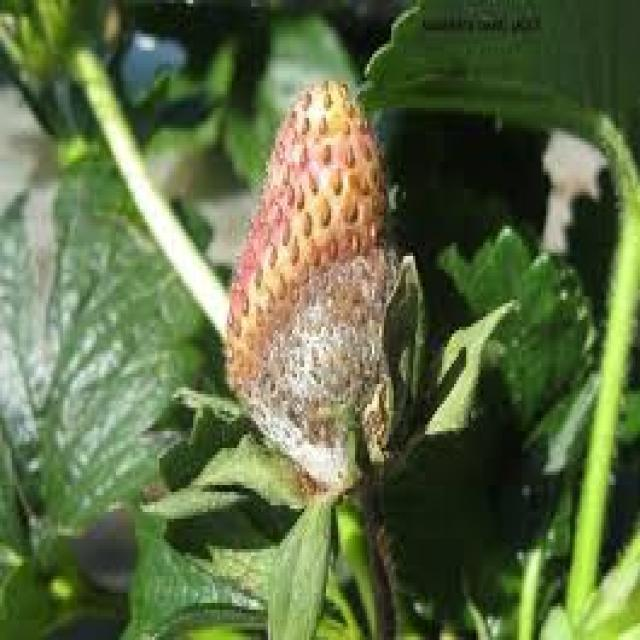Moho gris: (194, 76, 406, 482)
